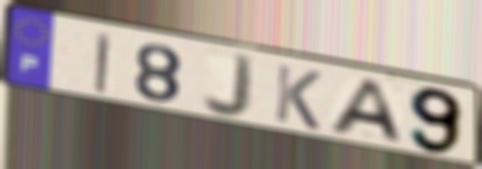8: (134, 42, 185, 104)
9: (406, 86, 469, 157)
A: (324, 77, 408, 147)
I: (93, 30, 115, 97)
J: (199, 51, 257, 121)
K: (272, 61, 325, 133)
